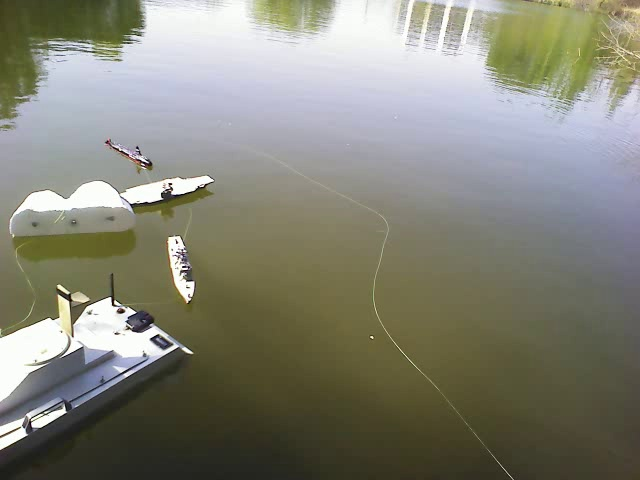aircraft_carrier: (126, 171, 215, 207)
boat: (0, 295, 192, 459)
iceberg: (14, 178, 133, 242)
submarine: (105, 135, 153, 168)
warship: (165, 228, 198, 306)
